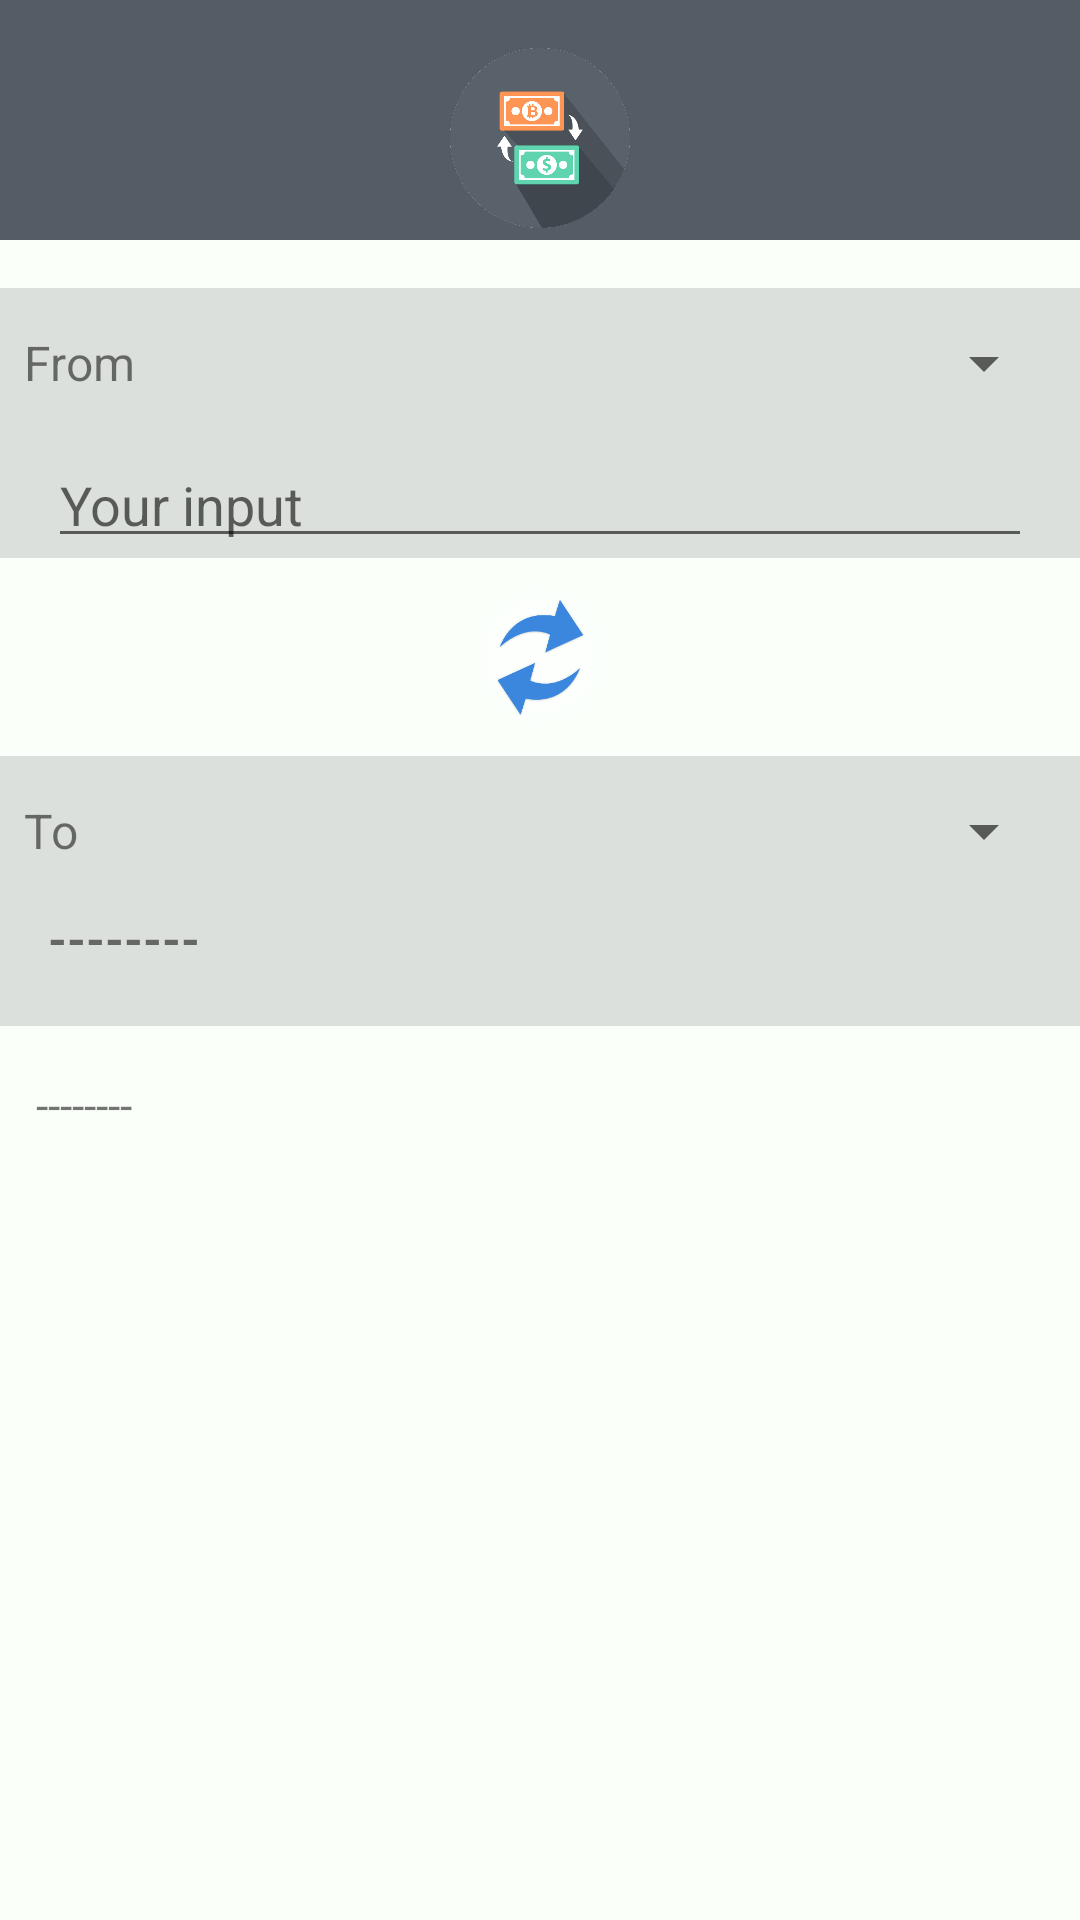

Where to tap for icons on this 1080w x 1920h app screen, as (x,y):
conv: (540,657)
